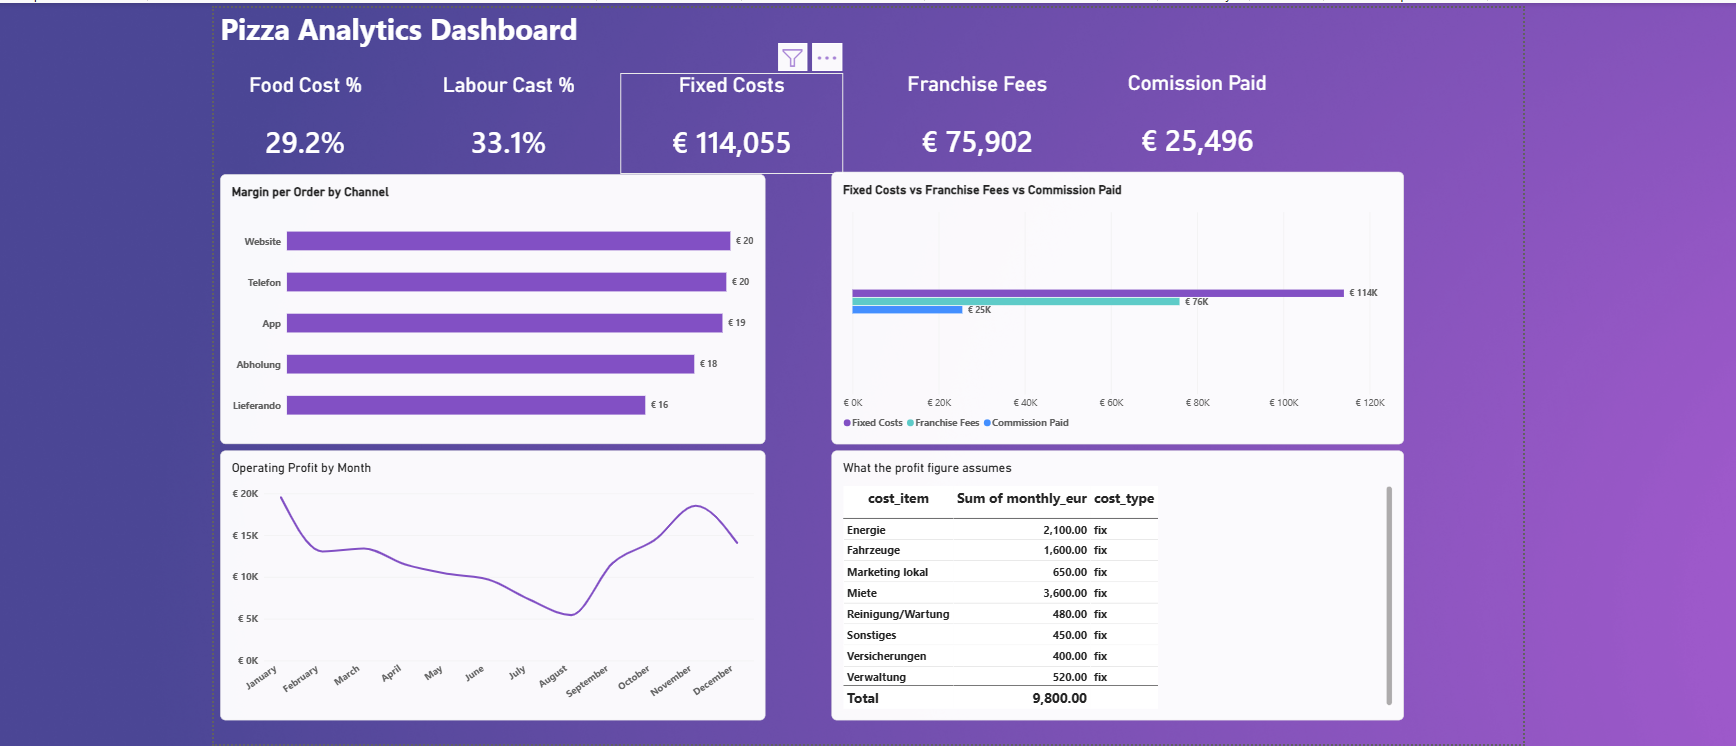

The page's visual inventory and layout, read from the dashboard file:
{"tool":"powerbi","page":{"name":"Cost Stack","canvas":[1920,1080],"ordinal":1},"visuals":[{"type":"textbox","box":[9.2,0,1911.3,99],"z":0},{"type":"cardVisual","title":"Food Cost %","fields":{"Data":["_Measure.Food Cost %"]},"box":[0,94.9,268.6,149.4],"z":1000},{"type":"cardVisual","title":"Labour Cast %","fields":{"Data":["_Measure.Labour Cost %"]},"box":[268.6,94.9,329.2,149.4],"z":2000},{"type":"cardVisual","title":"Fixed Costs","fields":{"Data":["_Measure.Fixed Costs"]},"box":[596.1,95.4,327.1,149.4],"z":3000},{"type":"cardVisual","title":"Franchise Fees","fields":{"Data":["_Measure.Franchise Fees"]},"box":[946.5,93.5,347.3,149.4],"z":4000},{"type":"cardVisual","title":"Comission Paid","fields":{"Data":["_Measure.Commission Paid"]},"box":[1269.3,91.7,347.3,149.4],"z":5000},{"type":"clusteredBarChart","title":"Margin per Order by Channel","fields":{"Category":["mart dim_channel.channel_name"],"Y":["_Measure.Margin per Order"]},"box":[9.2,244,799.7,396.2],"z":6000},{"type":"clusteredBarChart","title":"Fixed Costs vs Franchise Fees vs Commission Paid","fields":{"Y":["_Measure.Fixed Costs","_Measure.Franchise Fees","_Measure.Commission Paid"]},"box":[906.1,240.3,840.1,399.9],"z":7000},{"type":"lineChart","title":"Operating Profit by Month","fields":{"Category":["mart dim_date.month_name"],"Y":["_Measure.Operating Profit"]},"box":[9,650,800,396],"z":8000},{"type":"tableEx","title":"What the profit figure assumes","fields":{"Values":["mart dim_cost_assumption.cost_item","Sum(mart dim_cost_assumption.monthly_eur)","mart dim_cost_assumption.cost_type"]},"box":[906,650,840,396],"z":8001}]}

Visuals, with their boxes in screenshot pixels (x1, y1, x2, y2):
textbox: rect(214, 0, 1516, 67)
"Food Cost %" cardVisual: rect(208, 65, 391, 166)
"Labour Cast %" cardVisual: rect(391, 65, 615, 166)
"Fixed Costs" cardVisual: rect(614, 65, 837, 167)
"Franchise Fees" cardVisual: rect(853, 64, 1089, 165)
"Comission Paid" cardVisual: rect(1073, 62, 1309, 164)
"Margin per Order by Channel" clusteredBarChart: rect(214, 166, 759, 436)
"Fixed Costs vs Franchise Fees vs Commission Paid" clusteredBarChart: rect(825, 164, 1397, 436)
"Operating Profit by Month" lineChart: rect(214, 443, 759, 712)
"What the profit figure assumes" tableEx: rect(825, 443, 1397, 712)
